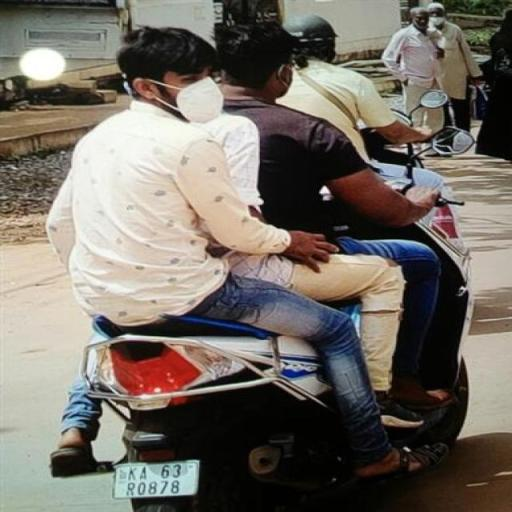tripple riding: (38, 12, 422, 294)
